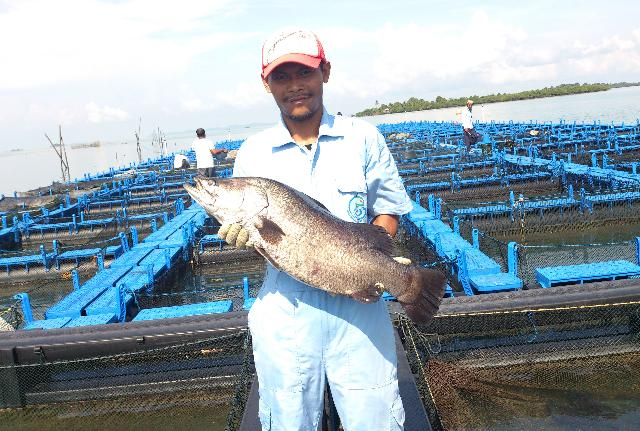Mulut: (169, 164, 221, 216)
Sirip Anal: (335, 281, 389, 311)
Sirip Dada: (251, 212, 289, 250)
Sirip Ekor: (396, 262, 458, 334)
Sirip Perut: (246, 239, 288, 276)
Sirip Punggung: (299, 190, 401, 260)
